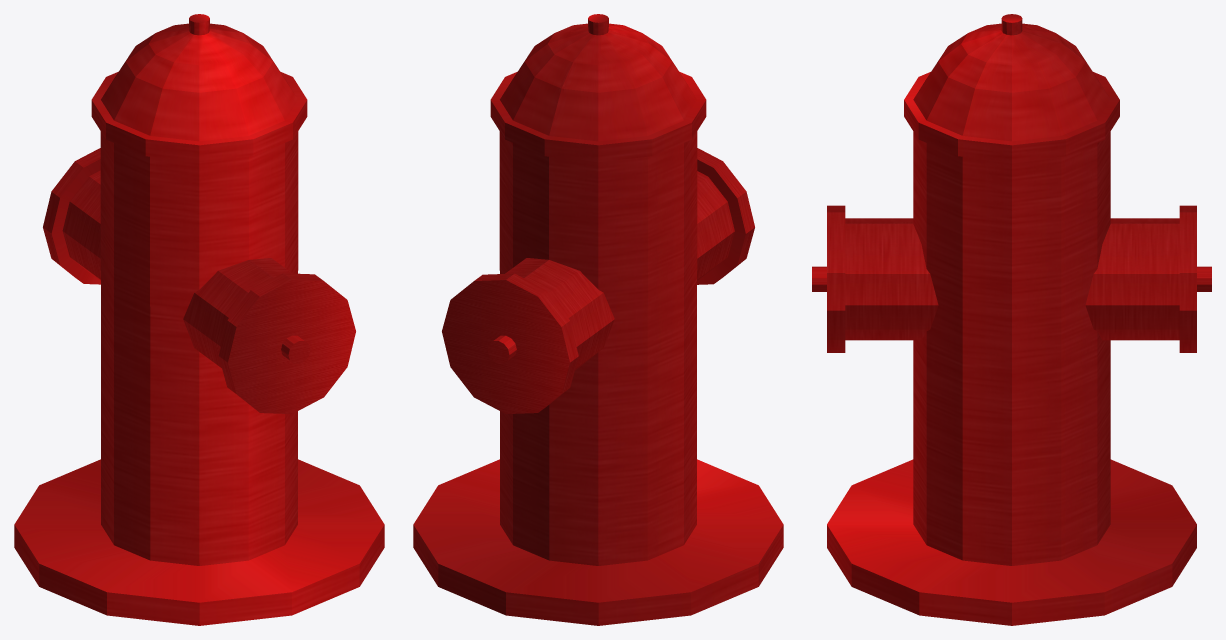
Rendered from hydrant.fbx.
The picture shows the model from 3 angles, left to right: view 1: azimuth 30°, elevation 25°; view 2: azimuth 150°, elevation 25°; view 3: azimuth 270°, elevation 25°; orthographic projection.
Visible parts, largest first — view 1: Cylinder; view 2: Cylinder; view 3: Cylinder.
Boxes of the visible parts, left/top/right/bottom form: Cylinder: left=14, top=14, right=384, bottom=625; Cylinder: left=413, top=14, right=783, bottom=625; Cylinder: left=812, top=14, right=1211, bottom=625.
Bounding box in the file's own units: 50 × 78.87 × 54.
Materials: 2 (2 with a texture image).
